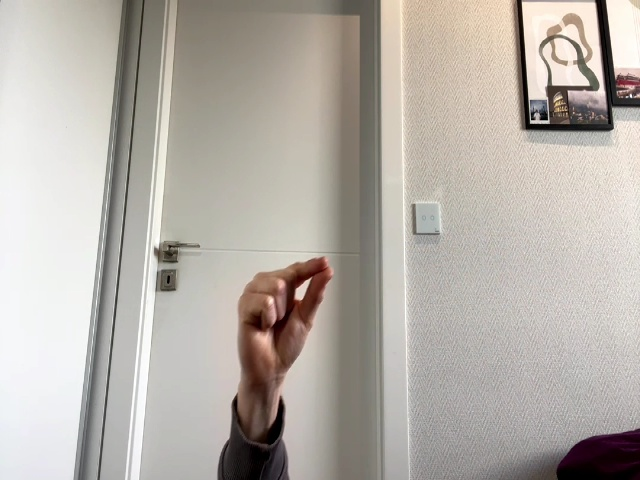P: (238, 257, 334, 370)
